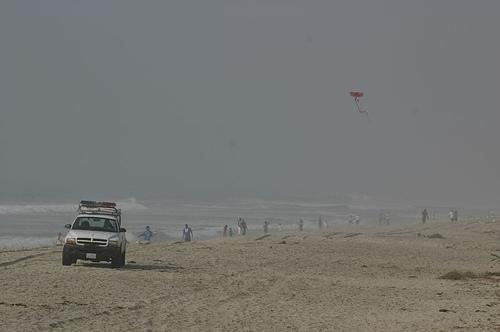truck: (60, 201, 127, 269)
